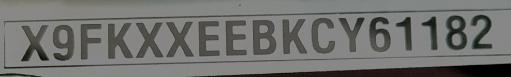letter: (17, 23, 51, 62), (279, 16, 309, 55), (134, 21, 165, 58), (106, 21, 134, 60), (166, 20, 195, 57), (77, 21, 104, 60), (50, 22, 77, 61), (337, 16, 367, 51), (469, 12, 497, 49), (310, 16, 336, 55), (251, 18, 278, 55), (442, 13, 468, 50), (223, 19, 248, 56), (197, 20, 222, 57), (369, 15, 393, 52), (419, 15, 442, 52), (395, 15, 417, 52)
